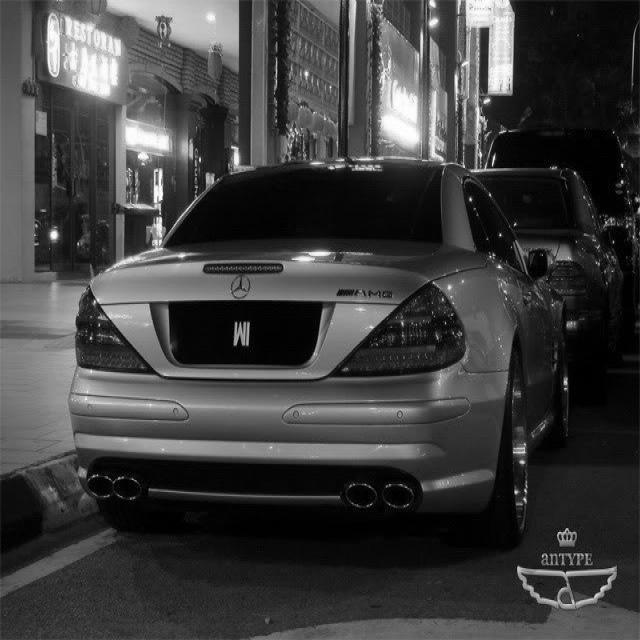car-plate: (166, 300, 326, 374)
